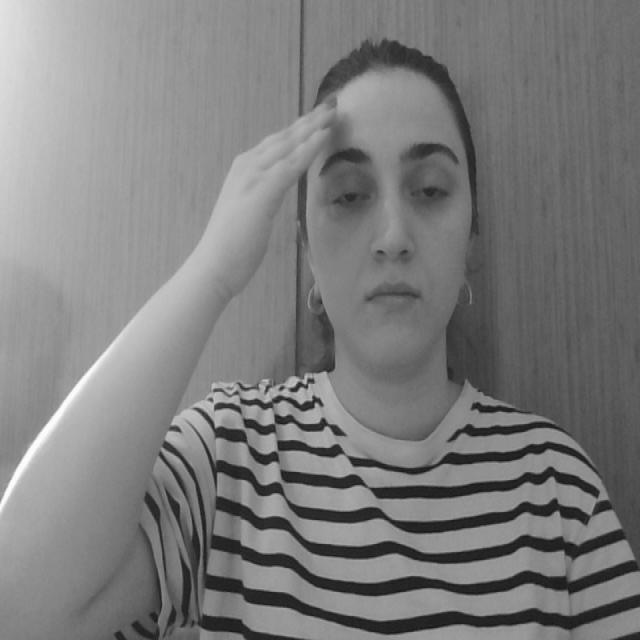Merhaba: (192, 78, 354, 351)
